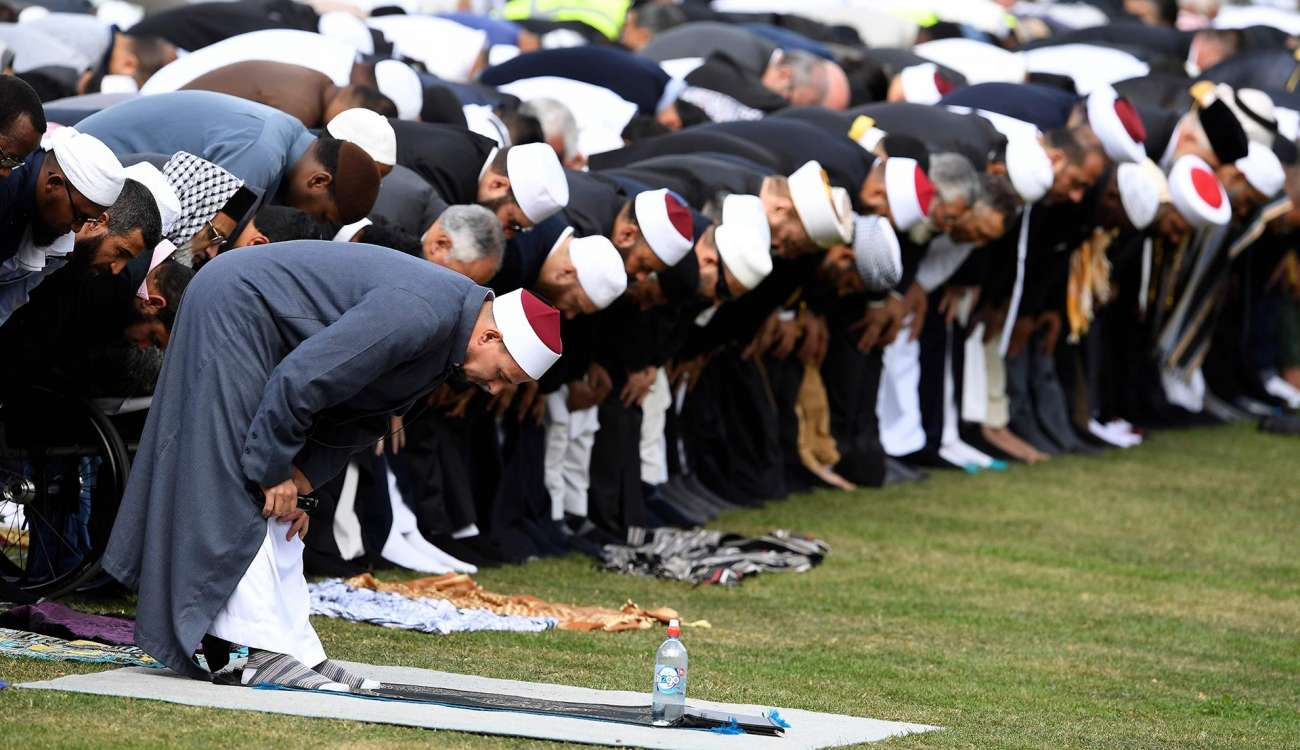ruku: (148, 236, 583, 704)
